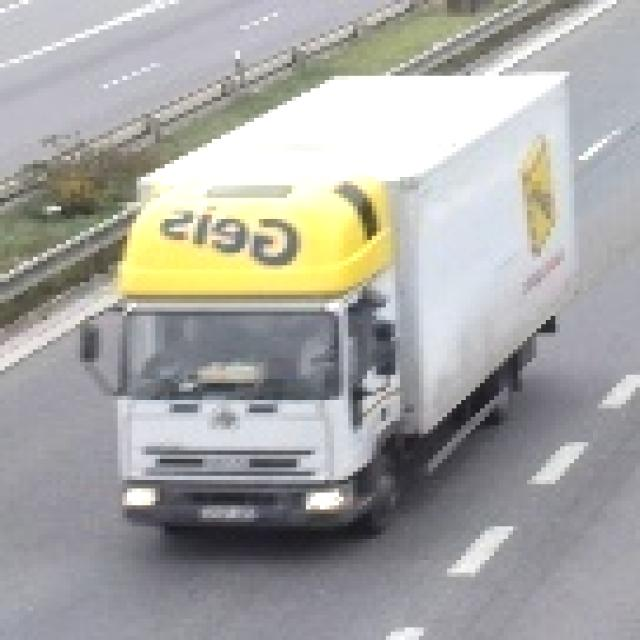truck: (81, 65, 570, 549)
